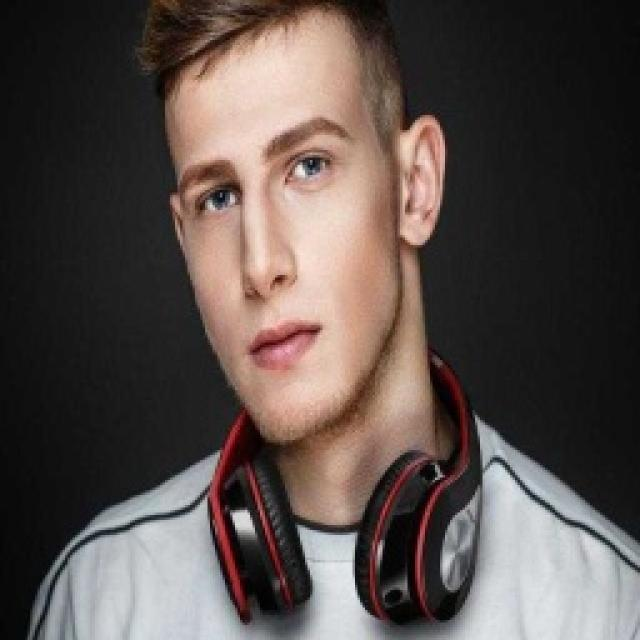headphones: (205, 345, 483, 625)
